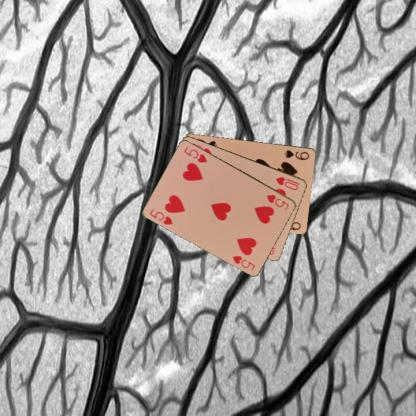10h: (273, 174, 301, 191)
5h: (148, 206, 174, 226), (264, 192, 291, 211)
9s: (283, 147, 310, 161)
